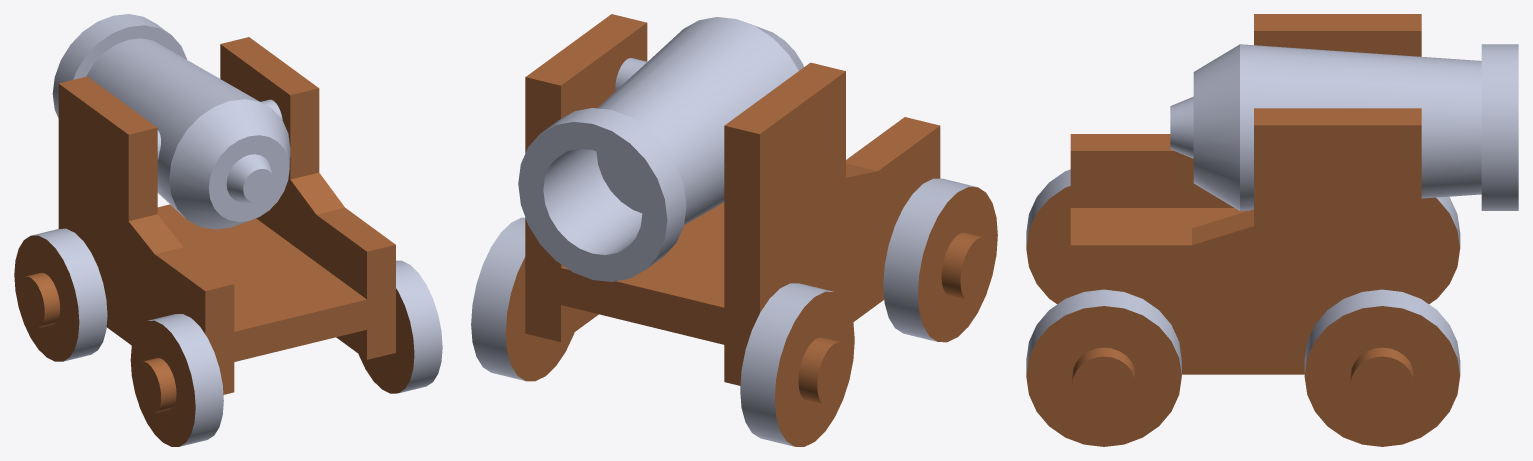
The model's file is cannonMobile.glb.
3 views of the same model, side by side, from view 1: azimuth 30°, elevation 25°; view 2: azimuth 150°, elevation 25°; view 3: azimuth 270°, elevation 25° (orthographic). The views are drawn at different scales.
Visible parts, largest first — view 1: cannonMobile, barrelMobile, wheel_frontLeft, wheel_backLeft, wheel_backRight; view 2: cannonMobile, barrelMobile, wheel_backLeft, wheel_frontLeft, wheel_frontRight; view 3: cannonMobile, barrelMobile, wheel_frontRight, wheel_backRight, wheel_backLeft, wheel_frontLeft.
Boxes of the visible parts, x1,y1,x2,y2 form: cannonMobile: (58, 37, 395, 394); barrelMobile: (52, 14, 290, 229); wheel_frontLeft: (14, 228, 107, 361); wheel_backLeft: (130, 314, 223, 446); wheel_backRight: (358, 260, 442, 393); cannonMobile: (525, 14, 940, 385); barrelMobile: (518, 17, 803, 281); wheel_backLeft: (883, 178, 997, 342); wheel_frontLeft: (740, 283, 854, 446); wheel_frontRight: (471, 217, 574, 381); cannonMobile: (1070, 14, 1421, 374); barrelMobile: (1170, 44, 1518, 210); wheel_frontRight: (1304, 289, 1460, 446); wheel_backRight: (1026, 289, 1181, 446); wheel_backLeft: (1026, 169, 1070, 304); wheel_frontLeft: (1421, 196, 1460, 303).
Bounding box in the file's own units: 0.6329 × 0.5885 × 0.8128.
